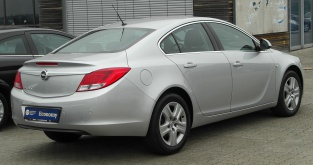car: (11, 17, 304, 154), (1, 27, 84, 129)
